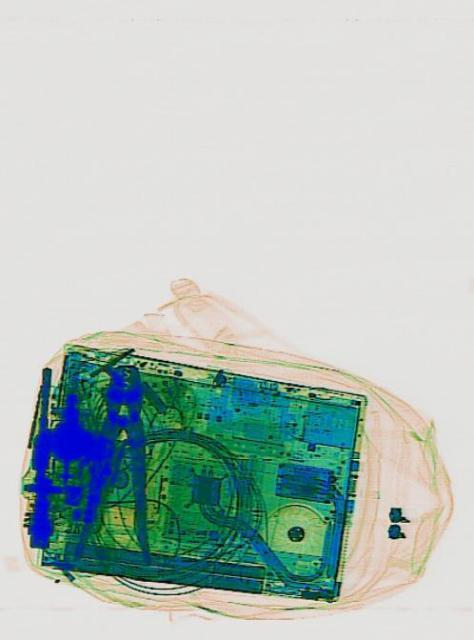Pliers: (68, 358, 165, 566)
